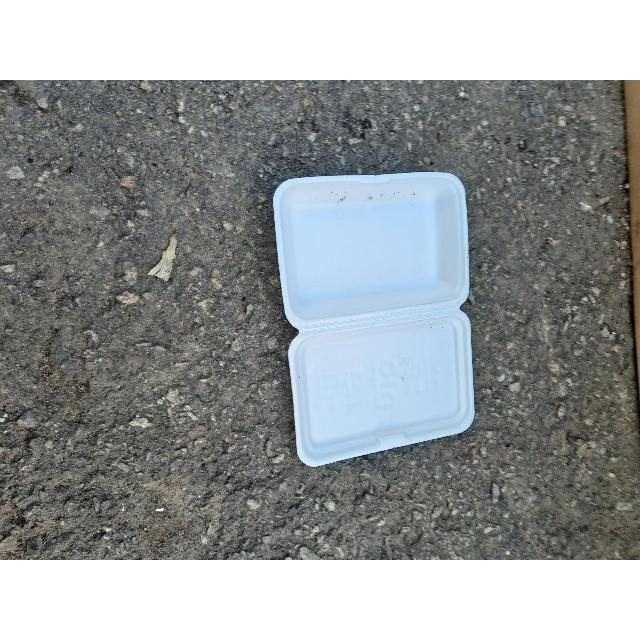Recipiente plastico: (274, 174, 474, 466)
